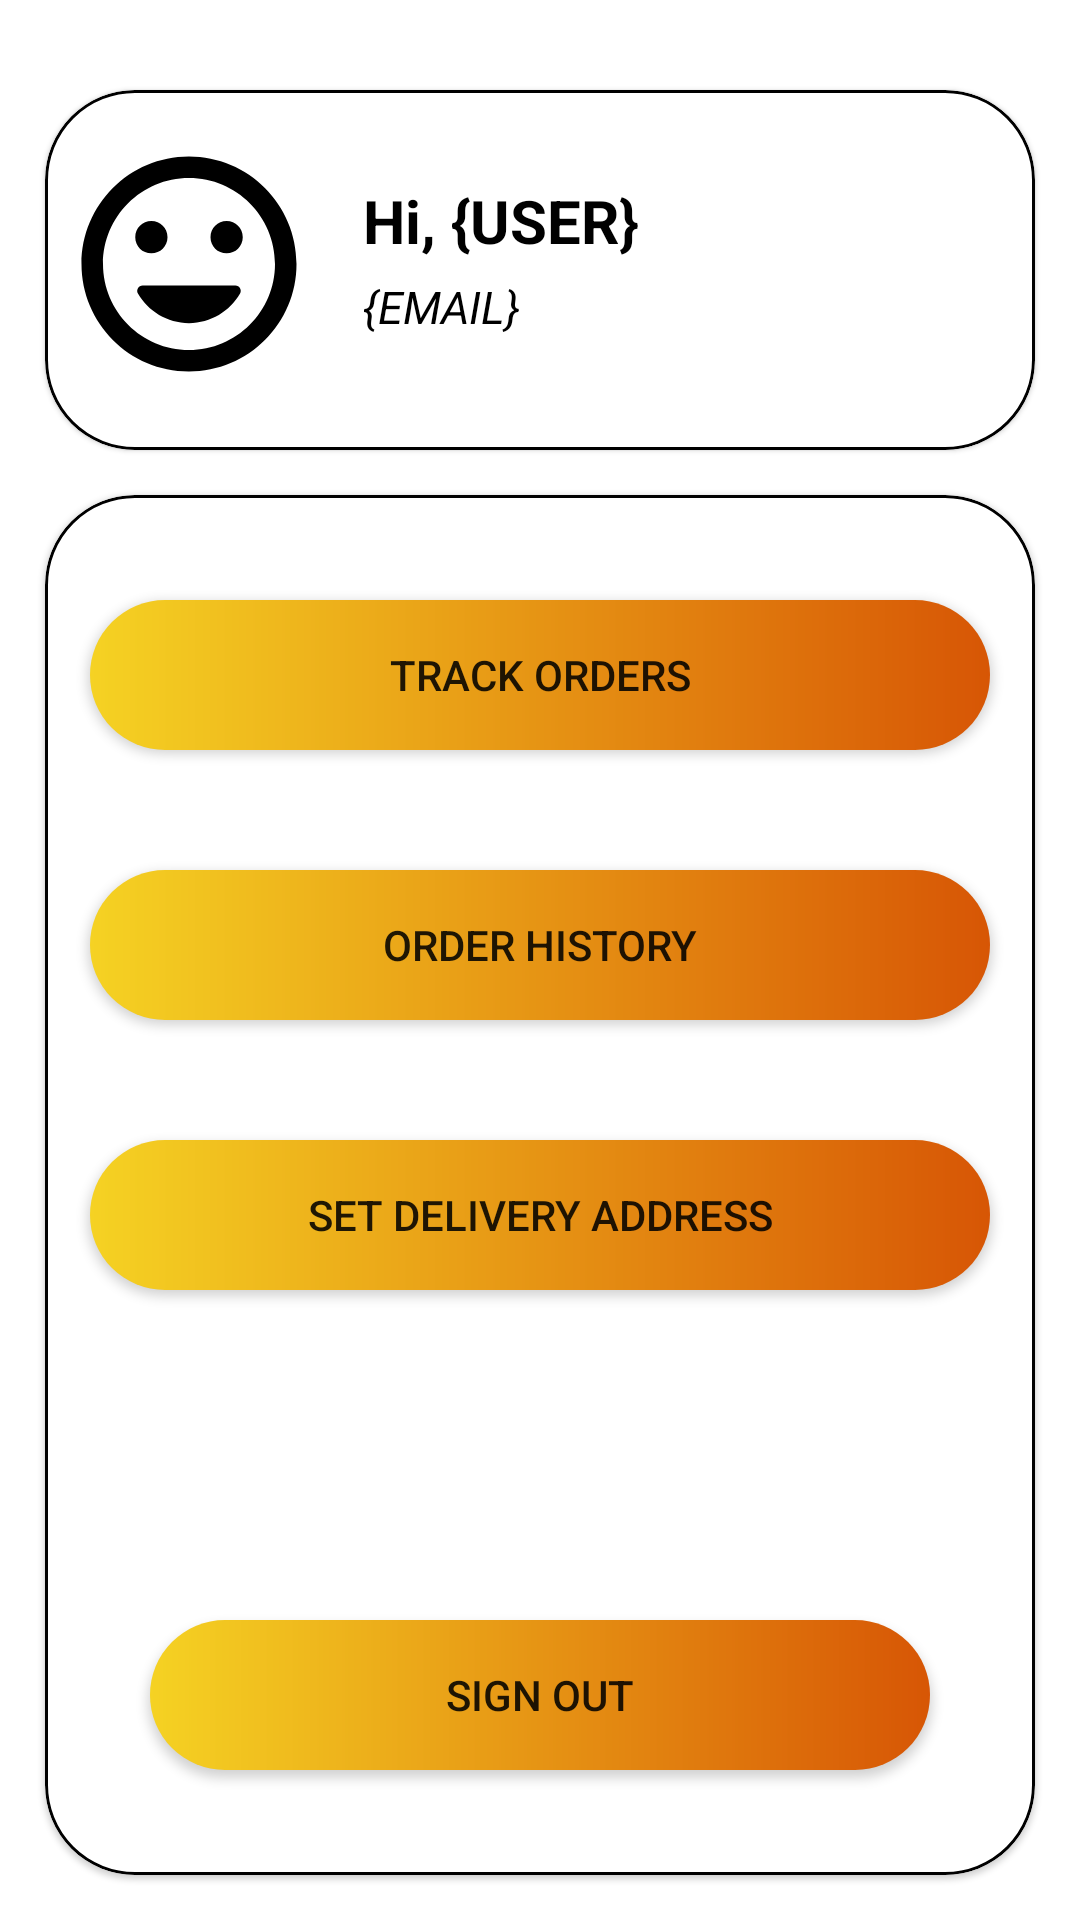

Where icons sit on this 1080 x 1920 app screen, as (x1, y1, x2, y2):
mood: (81, 156, 297, 372)
